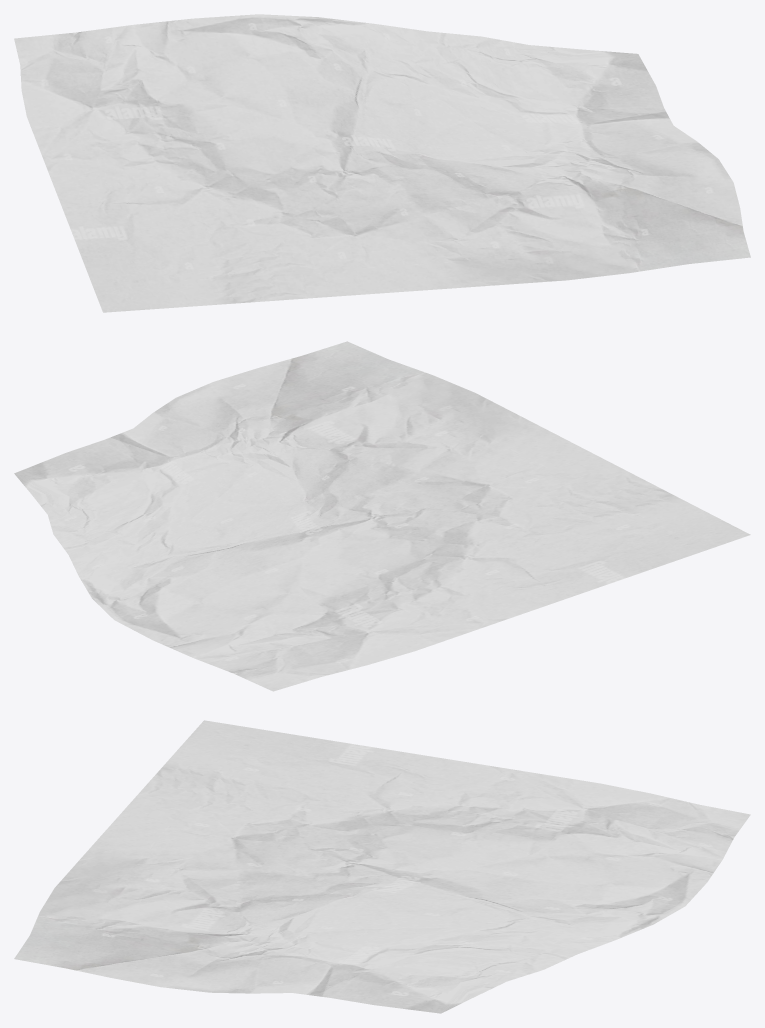
File: Paper.fbx
3 renders of one model, top to bottom at view 1: azimuth 30°, elevation 25°; view 2: azimuth 150°, elevation 25°; view 3: azimuth 270°, elevation 25°, orthographic. The views are drawn at different scales.
Parts seen in each view (by area): view 1: pPlane1; view 2: pPlane1; view 3: pPlane1.
Part boxes in pixels (x1,y1,x2,y2): pPlane1: [14, 14, 750, 312]; pPlane1: [14, 341, 750, 691]; pPlane1: [14, 720, 750, 1013].
Bounding box in the file's own units: 319 × 1.14e-13 × 339.
